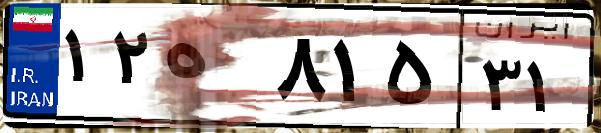1: (330, 28, 385, 110), (57, 26, 110, 100), (525, 38, 570, 115)
2: (110, 28, 158, 98)
3: (475, 38, 525, 113)
5: (385, 28, 445, 110)
8: (270, 28, 330, 110)
ه: (158, 20, 270, 120)
